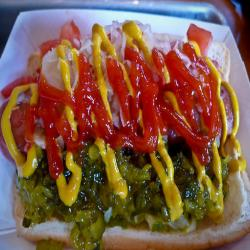hotdog: (2, 20, 250, 248)
ketchup: (116, 63, 200, 117), (29, 88, 100, 132)
